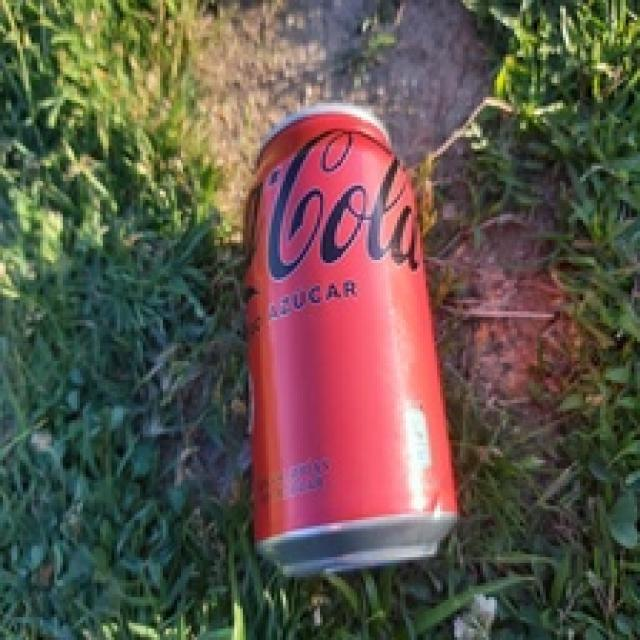recyclable: (248, 101, 457, 578)
